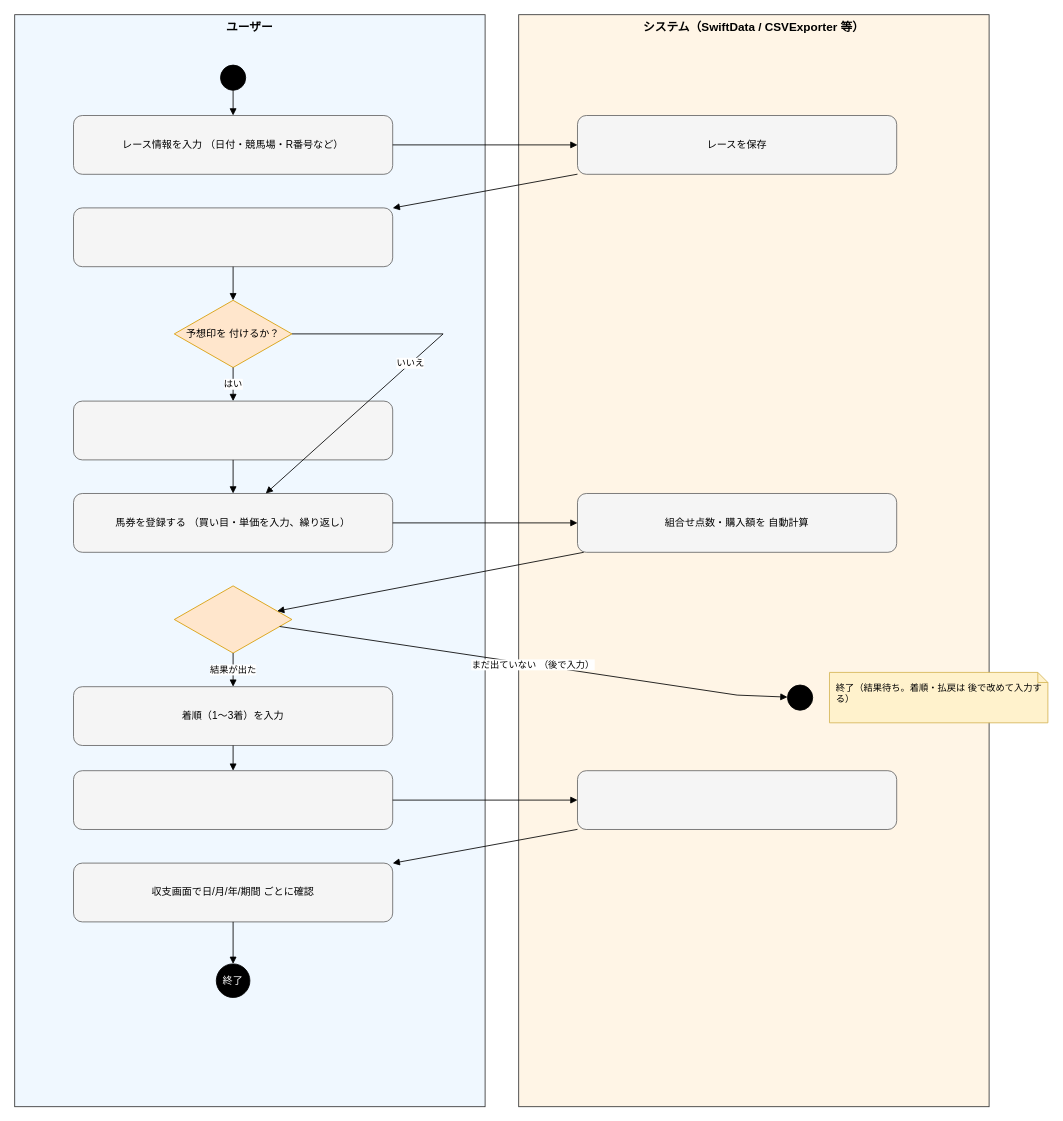
Some shapes in this 1063 by 1121 pixel diagram are drawn without their labels. The centre of each missing label's shape, as x and y in pixels:
"レース結果が 出たか？" goes at pixel 232 619.
"予想印を入力" goes at pixel 233 430.
"出走馬を登録する （繰り返し）" goes at pixel 233 237.
"収支・回収率を自動計算" goes at pixel 737 800.
"払戻額を入力" goes at pixel 233 800.
